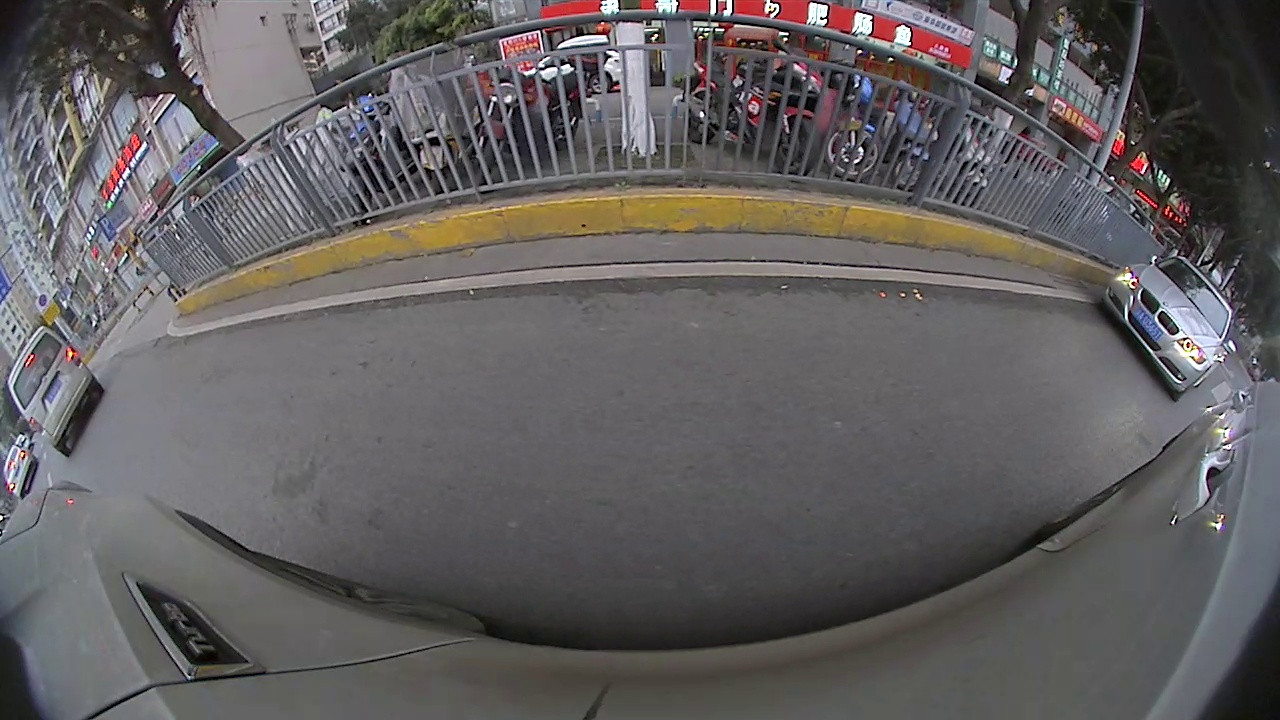car: (1096, 251, 1243, 401), (2, 322, 106, 457)
front: (827, 124, 880, 179), (771, 117, 818, 175), (891, 157, 926, 193)
rider: (460, 43, 613, 197), (677, 29, 827, 176), (337, 84, 419, 229), (867, 68, 940, 195), (822, 57, 883, 181), (953, 106, 998, 208)
